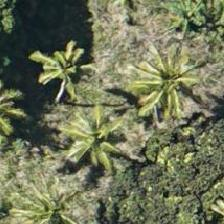coconut_tree: (1, 21, 91, 111), (42, 102, 132, 192), (121, 25, 211, 115), (4, 167, 94, 223)
